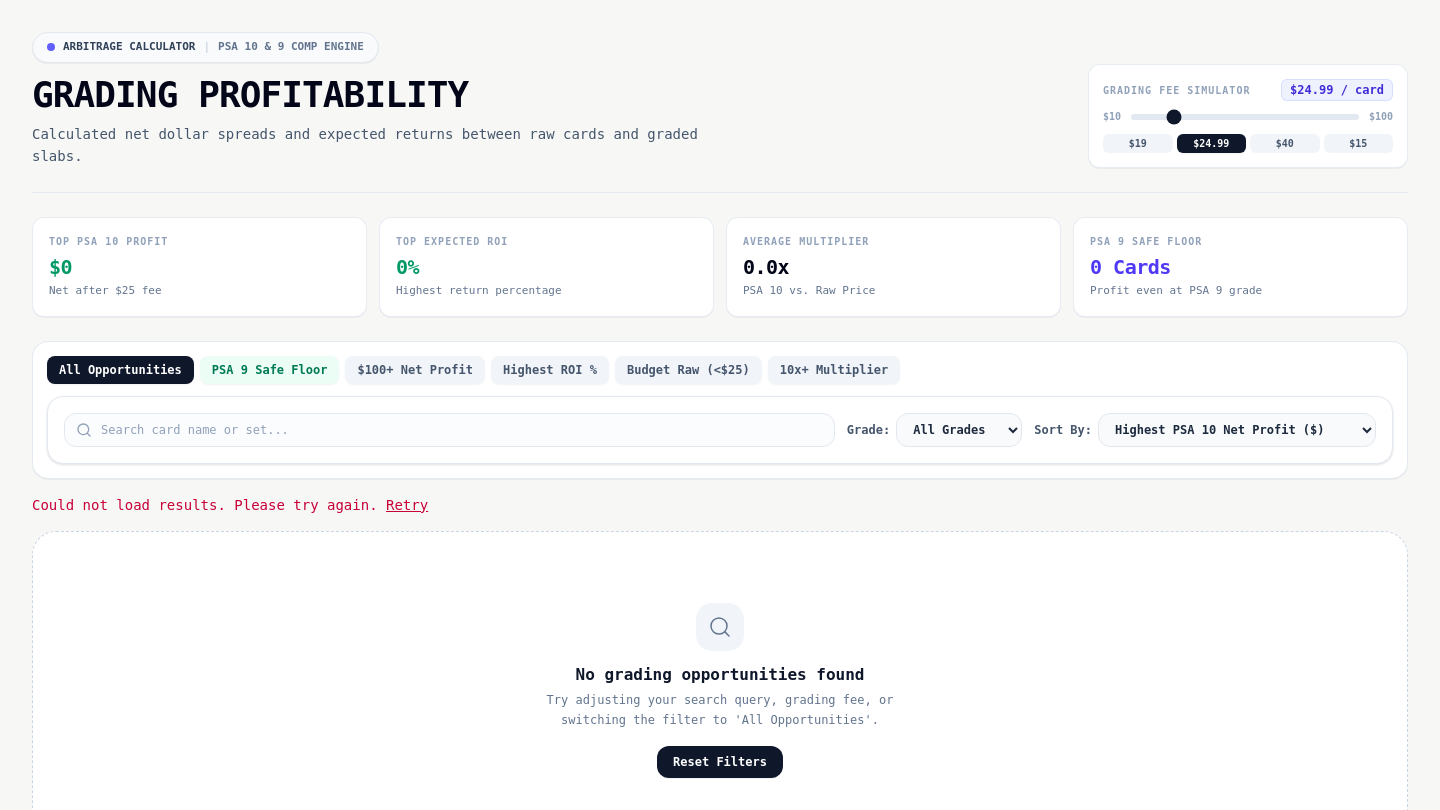
Test case: shows a retryable grading error and clears loading after recovery
The width and height of the screenshot is (1440, 810).
Expected: the message shows "Could not load results", [32,496,378,512]
Click the button "Retry" at x=407, y=504, box [386,494,428,514]
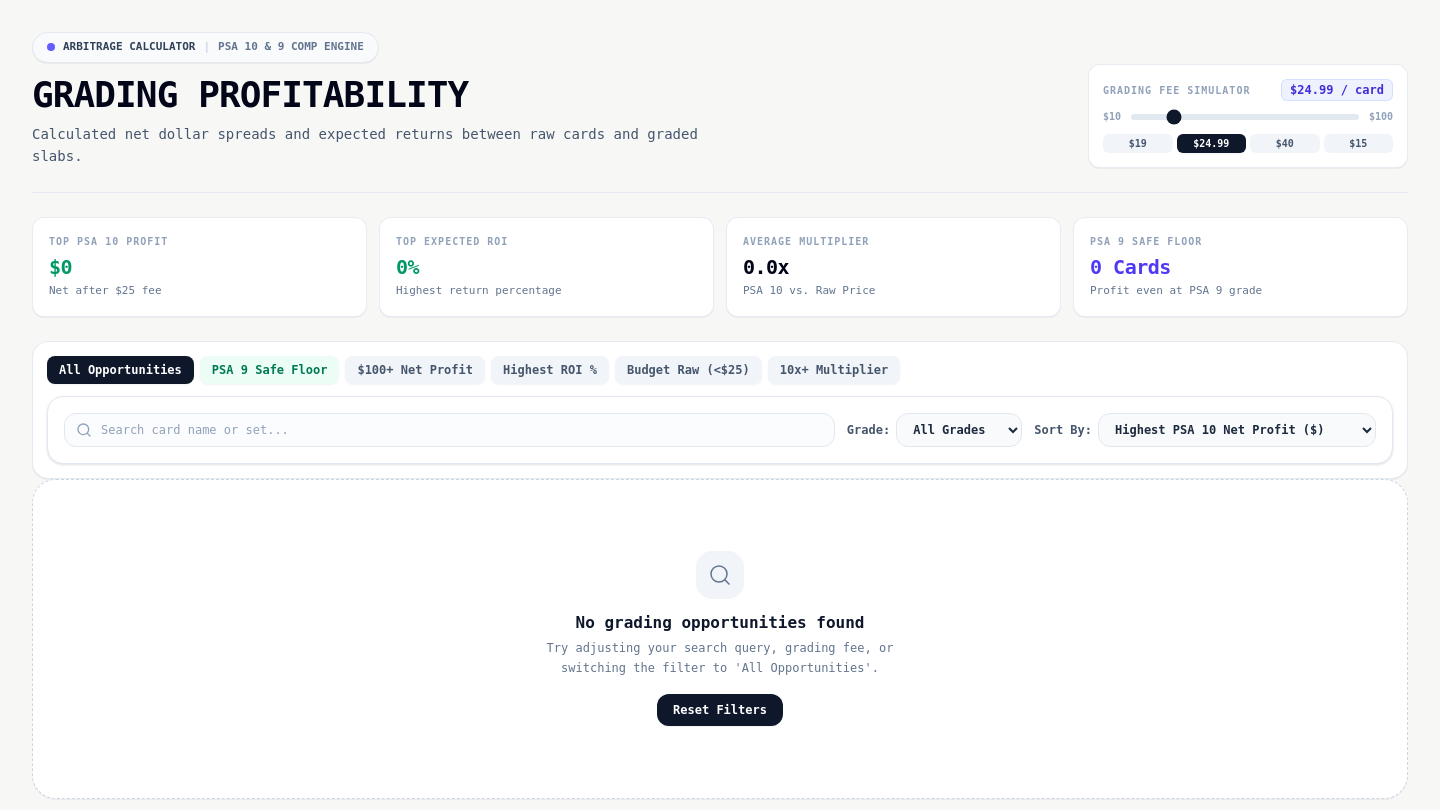
Expected: the message "Could not load results. Please try again. Retry" is gone
